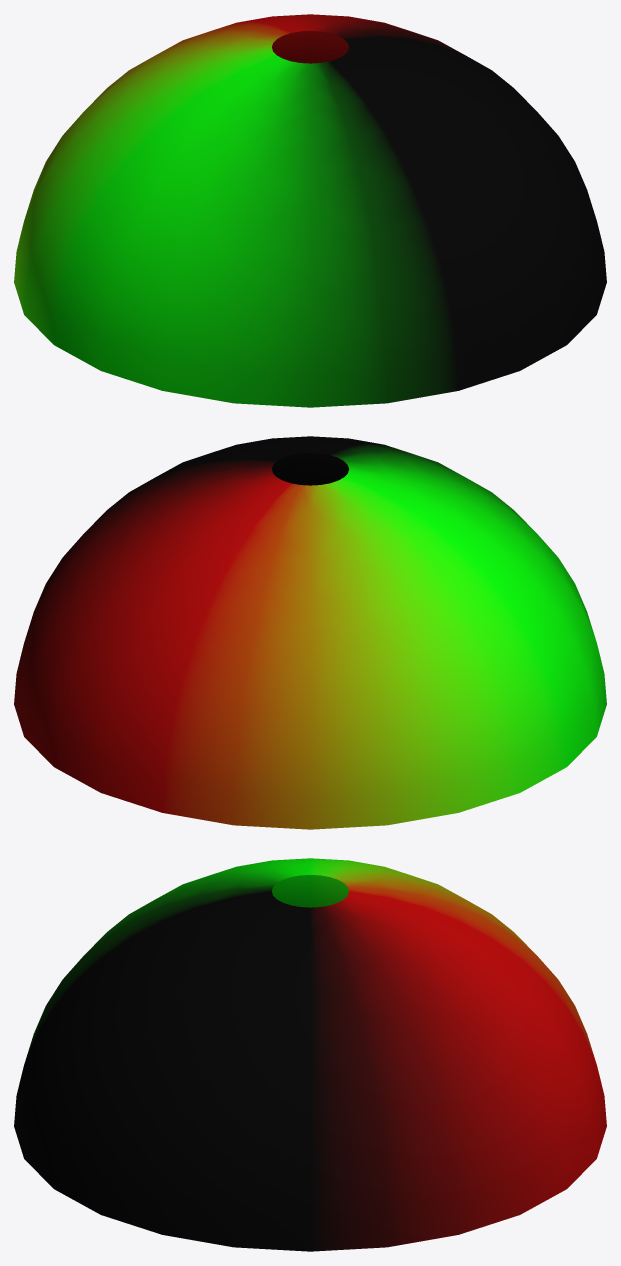
Rendered from uni_dome.fbx.
3 views of the same model, one above another, from view 1: azimuth 30°, elevation 25°; view 2: azimuth 150°, elevation 25°; view 3: azimuth 270°, elevation 25° (orthographic).
Visible parts, largest first — view 1: uni_dome; view 2: uni_dome; view 3: uni_dome.
Boxes of the visible parts, x1,y1,x2,y2 form: uni_dome: (14, 14, 606, 407); uni_dome: (14, 436, 606, 829); uni_dome: (14, 858, 606, 1251).
Bounding box in the file's own units: 25600 × 25600 × 11200.
